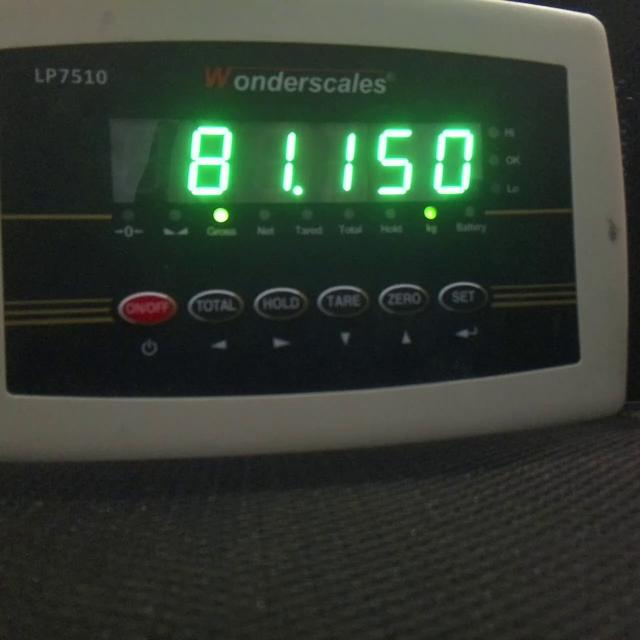.: (292, 185, 302, 196)
0: (434, 128, 474, 195)
1: (282, 129, 298, 193), (341, 131, 357, 192)
5: (375, 127, 414, 195)
8: (187, 125, 233, 195)
